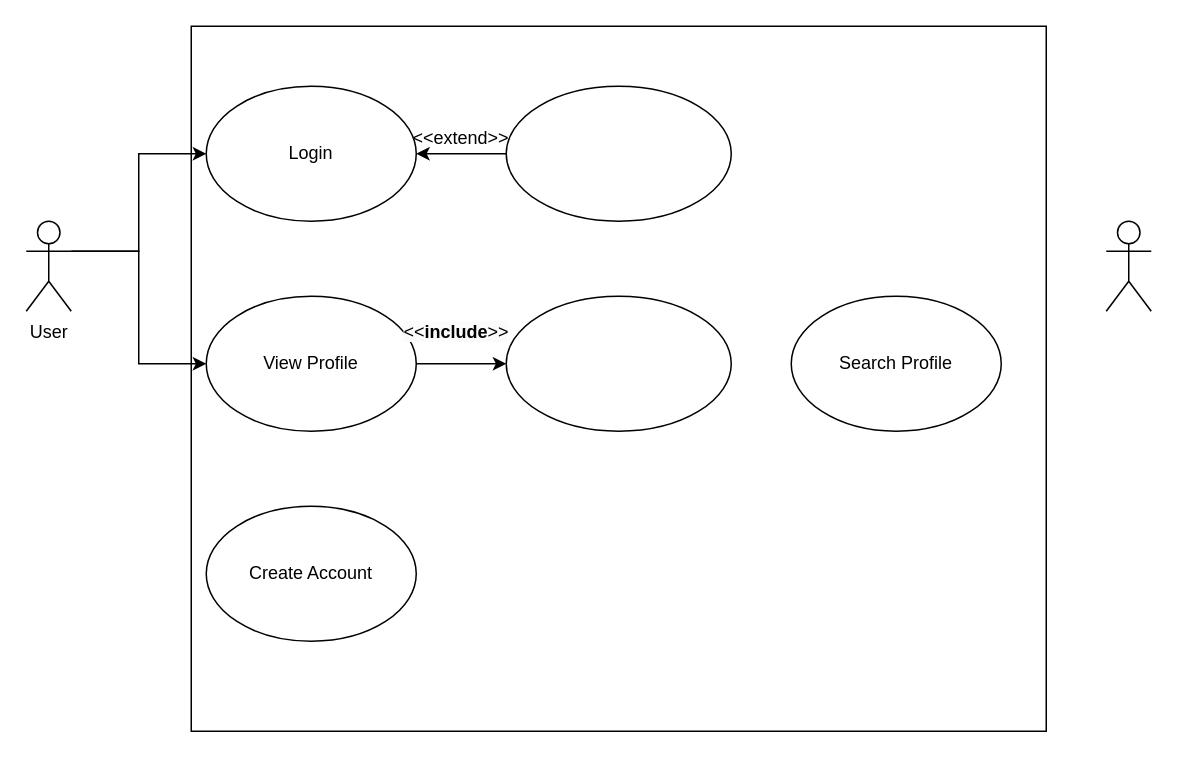
The diagram is 1181 pixels wide and 758 high, and some of its shapes have lost their labels. Each missing label, with the centre of its shape:
"Admin" belongs at pixel 1128 265.
"Edit Profile" belongs at pixel 618 363.
"Forgot Password" belongs at pixel 618 153.
